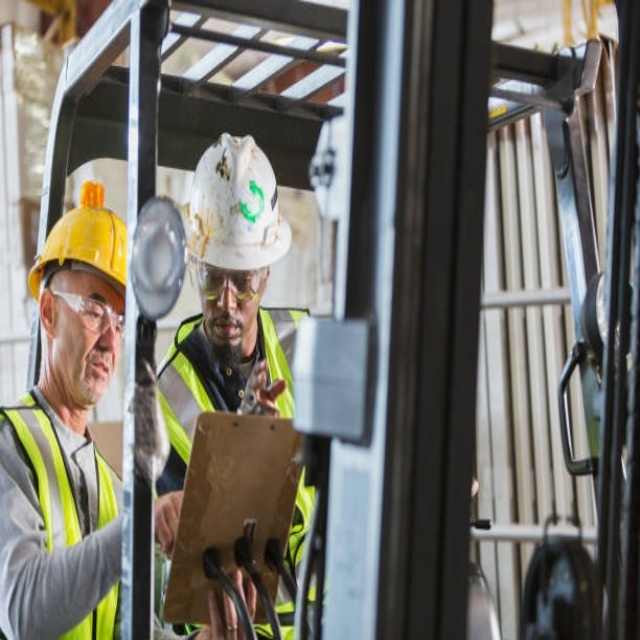Gafas: (52, 283, 127, 338), (195, 264, 266, 306)
Sin_guantes: (205, 567, 258, 640), (152, 489, 183, 559)
Sin_mascara: (77, 351, 116, 400), (206, 309, 244, 345)
